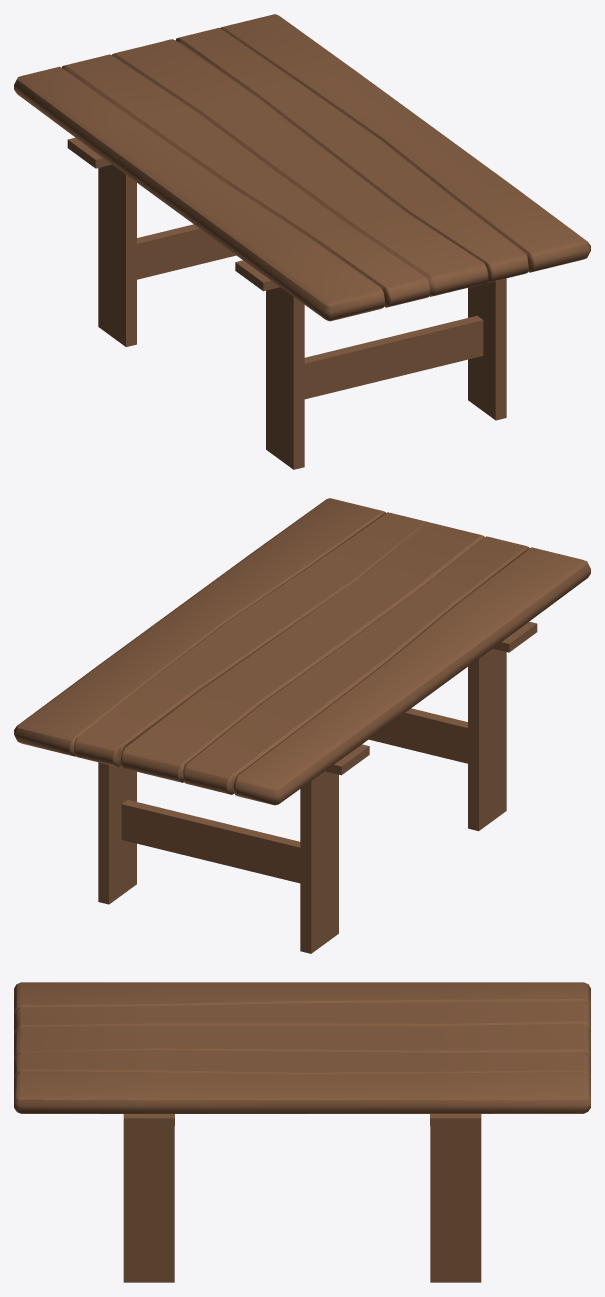
File: 093_wooden_table.glb
3 renders of one model, top to bottom at view 1: azimuth 30°, elevation 25°; view 2: azimuth 150°, elevation 25°; view 3: azimuth 270°, elevation 25°, orthographic. The views are drawn at different scales.
Visible parts, largest first — view 1: table, legs, support_bottom, support_top; view 2: table, legs, support_bottom, support_top; view 3: table, legs, support_top.
Part boxes in pixels (x1,y1,x2,y2): table: (14,14,590,321); legs: (98,164,506,469); support_bottom: (137,224,483,399); support_top: (67,137,279,291); table: (14,498,590,805); legs: (98,648,506,953); support_bottom: (121,708,467,883); support_top: (325,621,537,775); table: (14,982,590,1113); legs: (123,1126,481,1282); support_top: (123,1114,481,1126).
Bounding box in the file's own units: 1.5 × 1.12 × 2.99.
